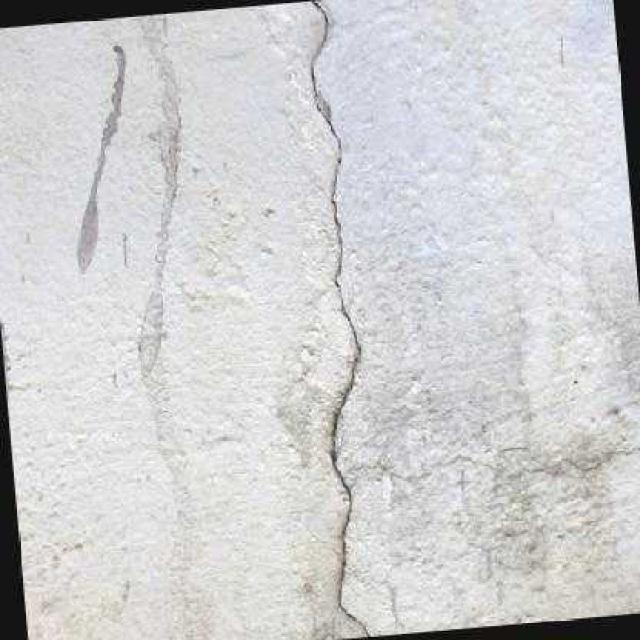D00: (309, 0, 371, 637)
